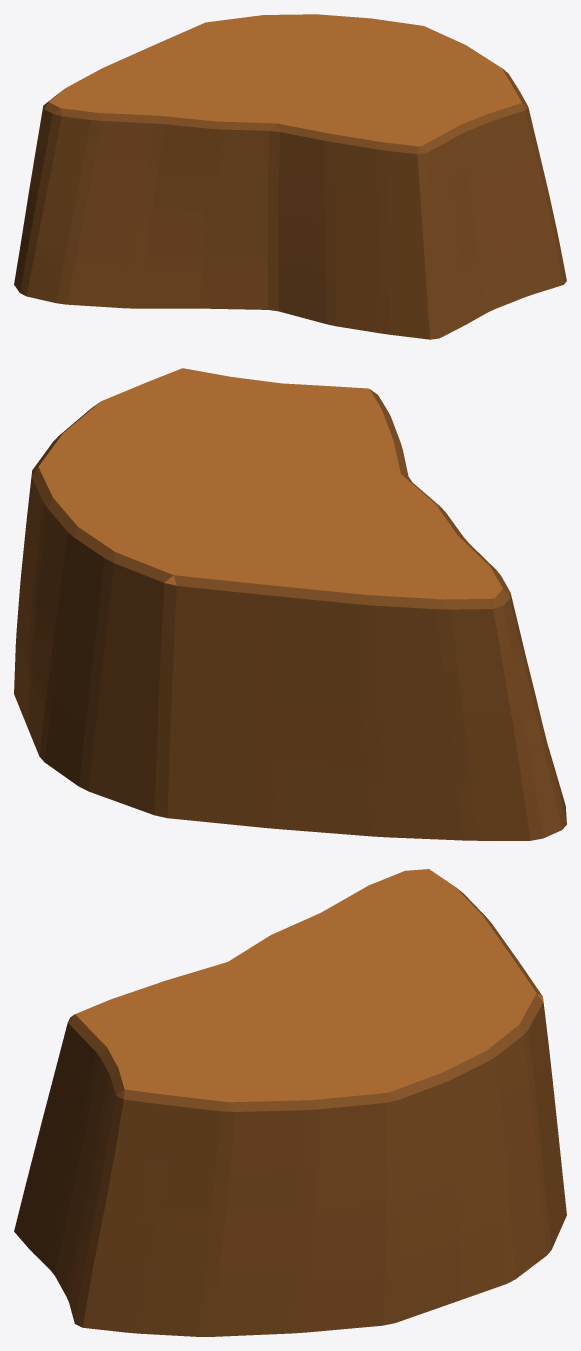
File: Desert_Hill2.fbx
3 views of the same model, one above another, from view 1: azimuth 30°, elevation 25°; view 2: azimuth 150°, elevation 25°; view 3: azimuth 270°, elevation 25° (orthographic). The views are drawn at different scales.
Visible parts, largest first — view 1: Cylinder.004; view 2: Cylinder.004; view 3: Cylinder.004.
Boxes of the visible parts, bbox=[...] form: Cylinder.004: bbox=[14, 14, 566, 339]; Cylinder.004: bbox=[14, 368, 566, 840]; Cylinder.004: bbox=[14, 869, 566, 1336].
Bounding box in the file's own units: 895 × 338 × 769.
